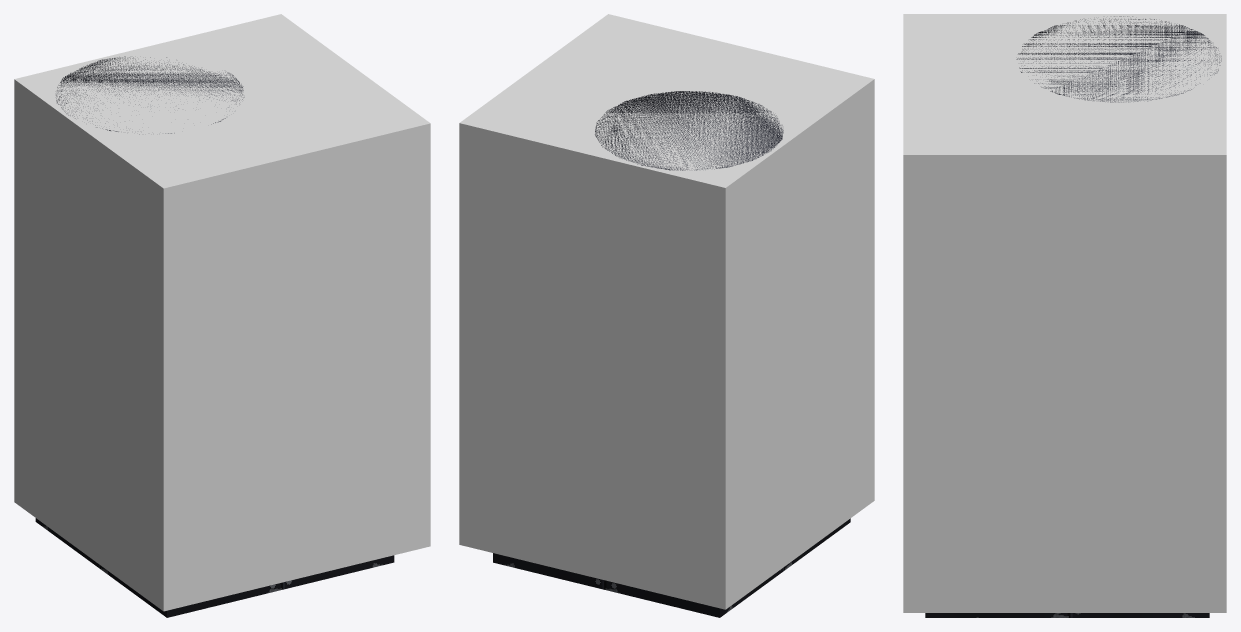
File: Furn_CatTree.gltf
3 views of the same model, side by side, from view 1: azimuth 30°, elevation 25°; view 2: azimuth 150°, elevation 25°; view 3: azimuth 270°, elevation 25° (orthographic). The views are drawn at different scales.
Parts seen in each view (by area): view 1: Furn_CatTree_COL, Furn_CatTree; view 2: Furn_CatTree_COL, Furn_CatTree; view 3: Furn_CatTree_COL, Furn_CatTree.
Part boxes in pixels (x1,y1,x2,y2): Furn_CatTree_COL: (14,14,430,611); Furn_CatTree: (35,56,394,617); Furn_CatTree_COL: (459,14,874,609); Furn_CatTree: (493,91,850,617); Furn_CatTree_COL: (903,14,1226,612); Furn_CatTree: (925,16,1221,617).
Bounding box in the file's own units: 0.646 × 1.02 × 0.626.
Materials: 6 (2 with a texture image).
